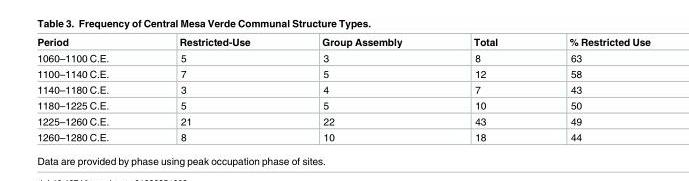table: (36, 37, 649, 142)
table column: (285, 37, 437, 142), (143, 37, 285, 142), (532, 37, 649, 142), (36, 37, 143, 142), (437, 37, 532, 142)
table column header: (36, 37, 649, 50)
table row: (36, 50, 649, 66), (36, 66, 649, 82), (36, 97, 649, 113), (36, 113, 649, 129), (36, 82, 649, 97), (36, 37, 649, 50), (36, 129, 649, 142)
